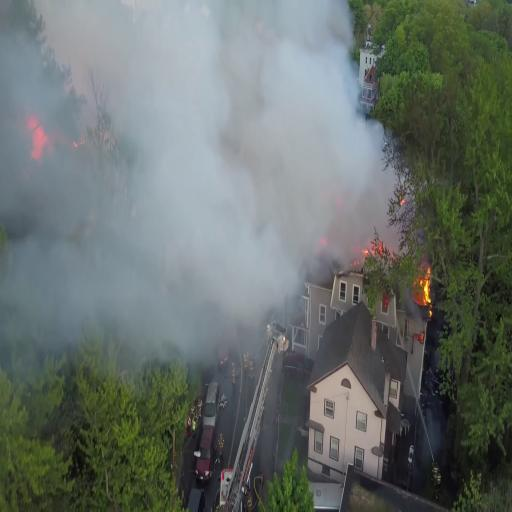fire: (416, 258, 433, 302)
smoke: (110, 7, 334, 241)
